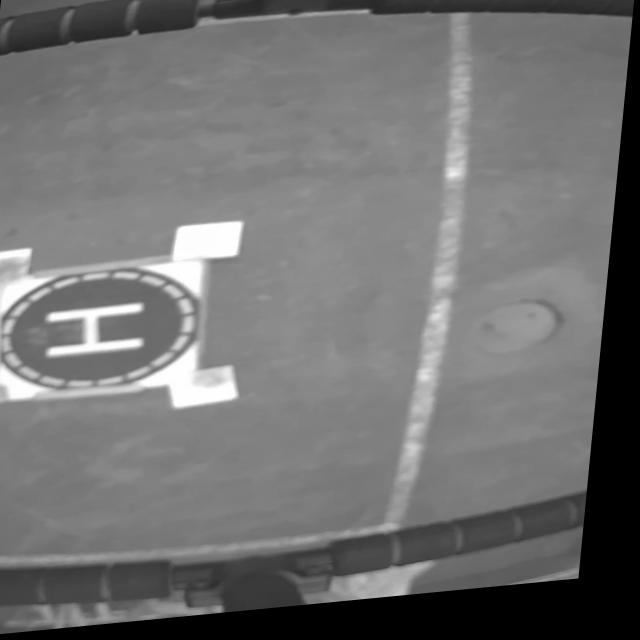Helipad: (50, 305, 152, 359)
